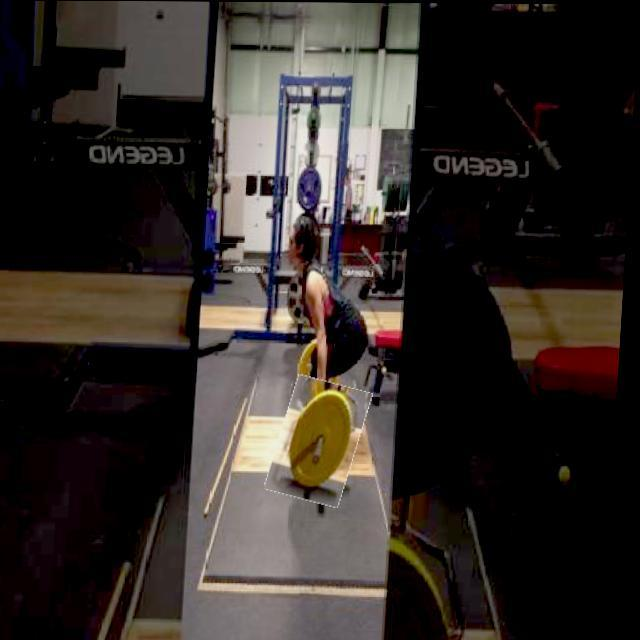barbell: (277, 379, 373, 505)
